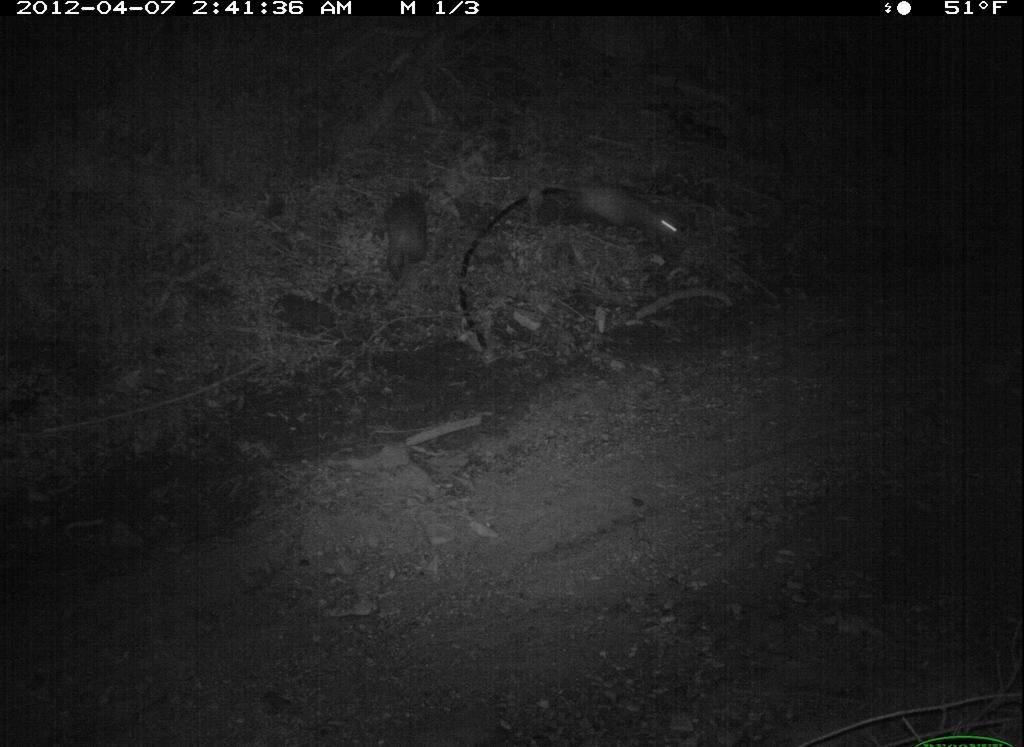opossum: (545, 177, 689, 249), (371, 183, 440, 289)
